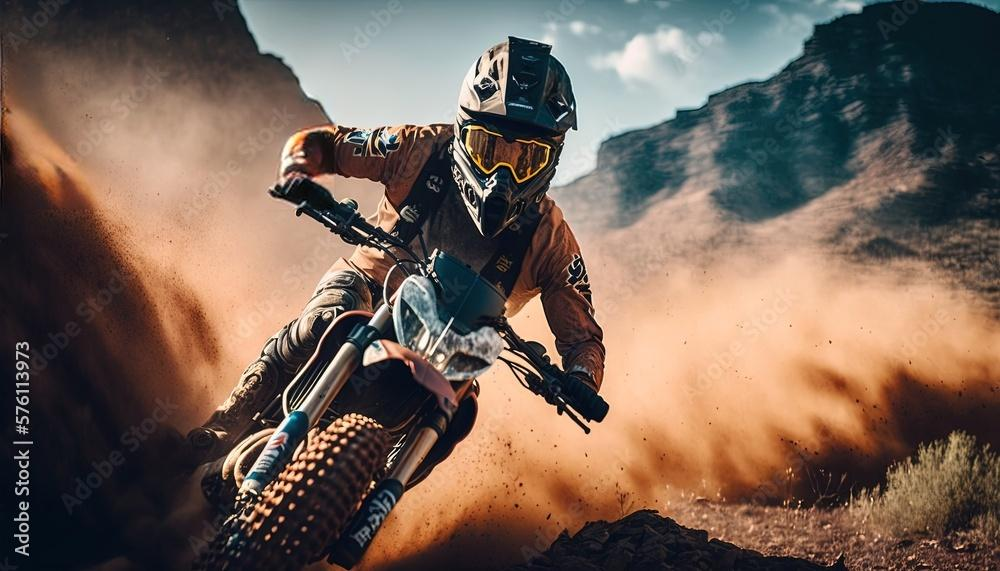helmet: (447, 34, 579, 240)
